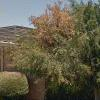Tree: (34, 5, 100, 94)
